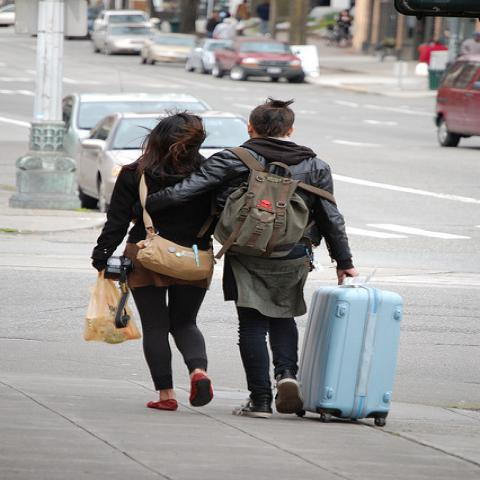car: (77, 108, 251, 211), (61, 92, 211, 162), (434, 54, 479, 148), (92, 24, 162, 56), (138, 32, 198, 65), (184, 39, 230, 74), (91, 10, 155, 31), (0, 3, 17, 27)
truck: (209, 36, 306, 84)
